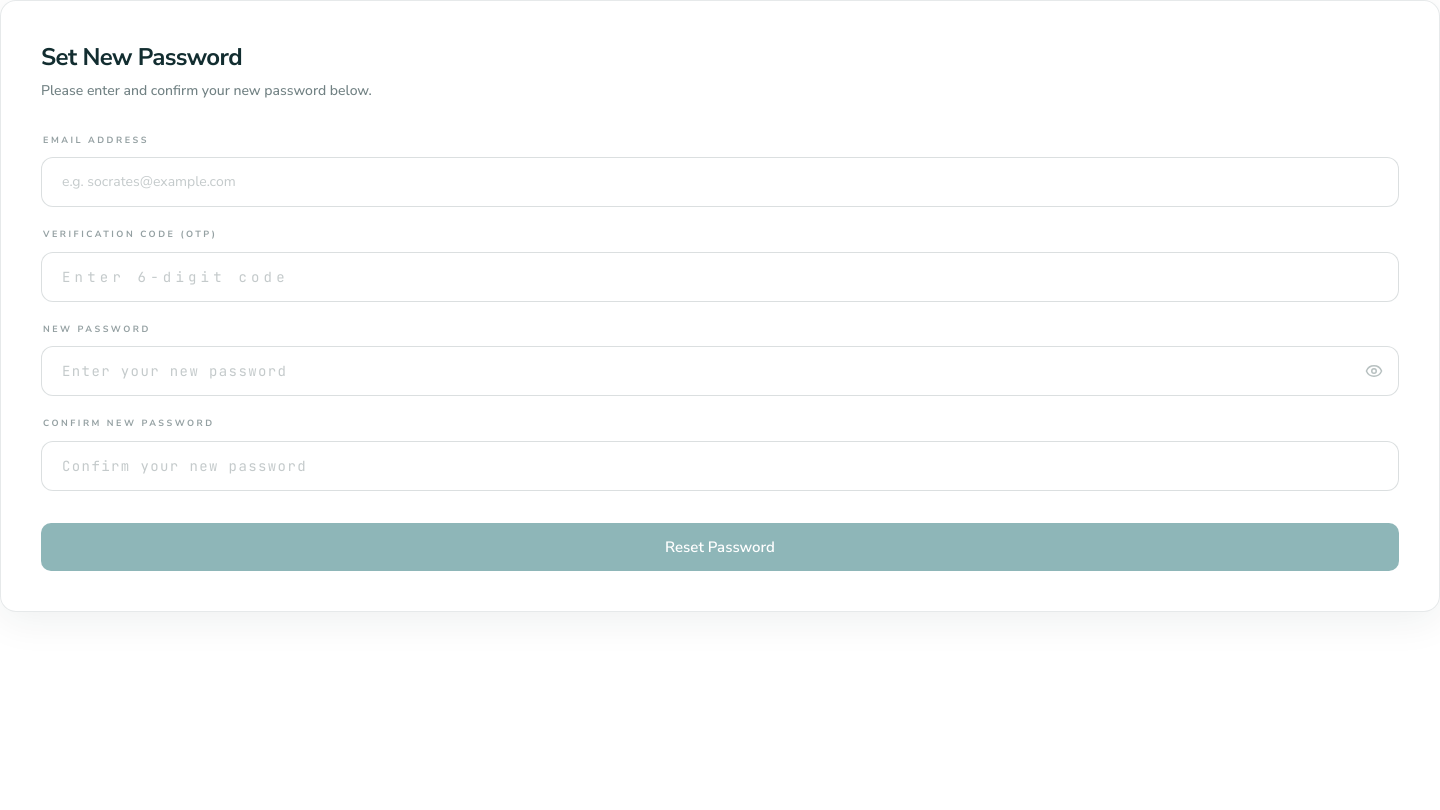
Test case: ResetPassword › surfaces the server error message on failure
Type "kid@example.com" into the field with placeholder "e.g. socrates@example.com".
click(720, 182); type("kid@example.com")  # box [41,157,1399,207]
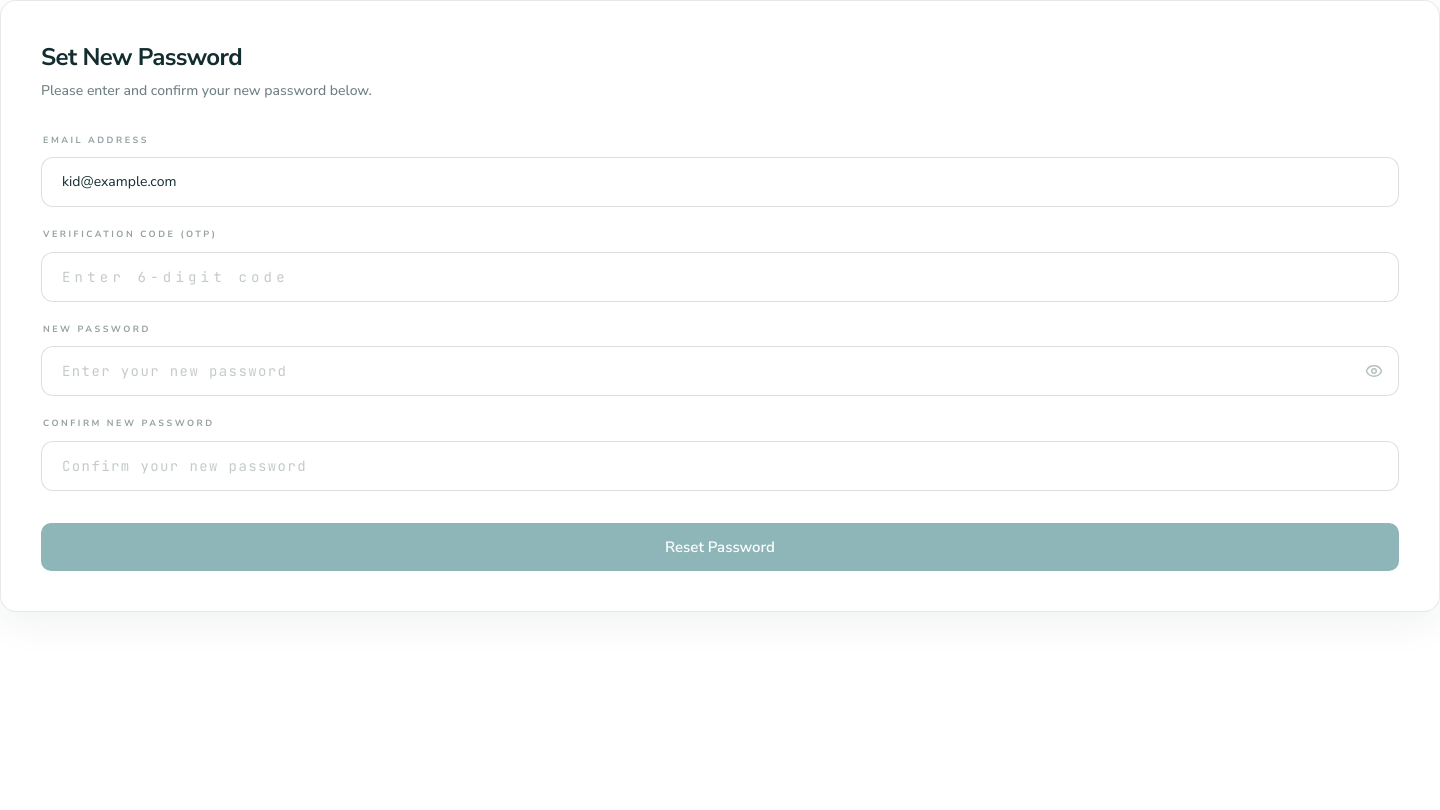
Type "123456" into the field with placeholder "Enter 6-digit code".
click(720, 277); type("123456")  # box [41,252,1399,302]
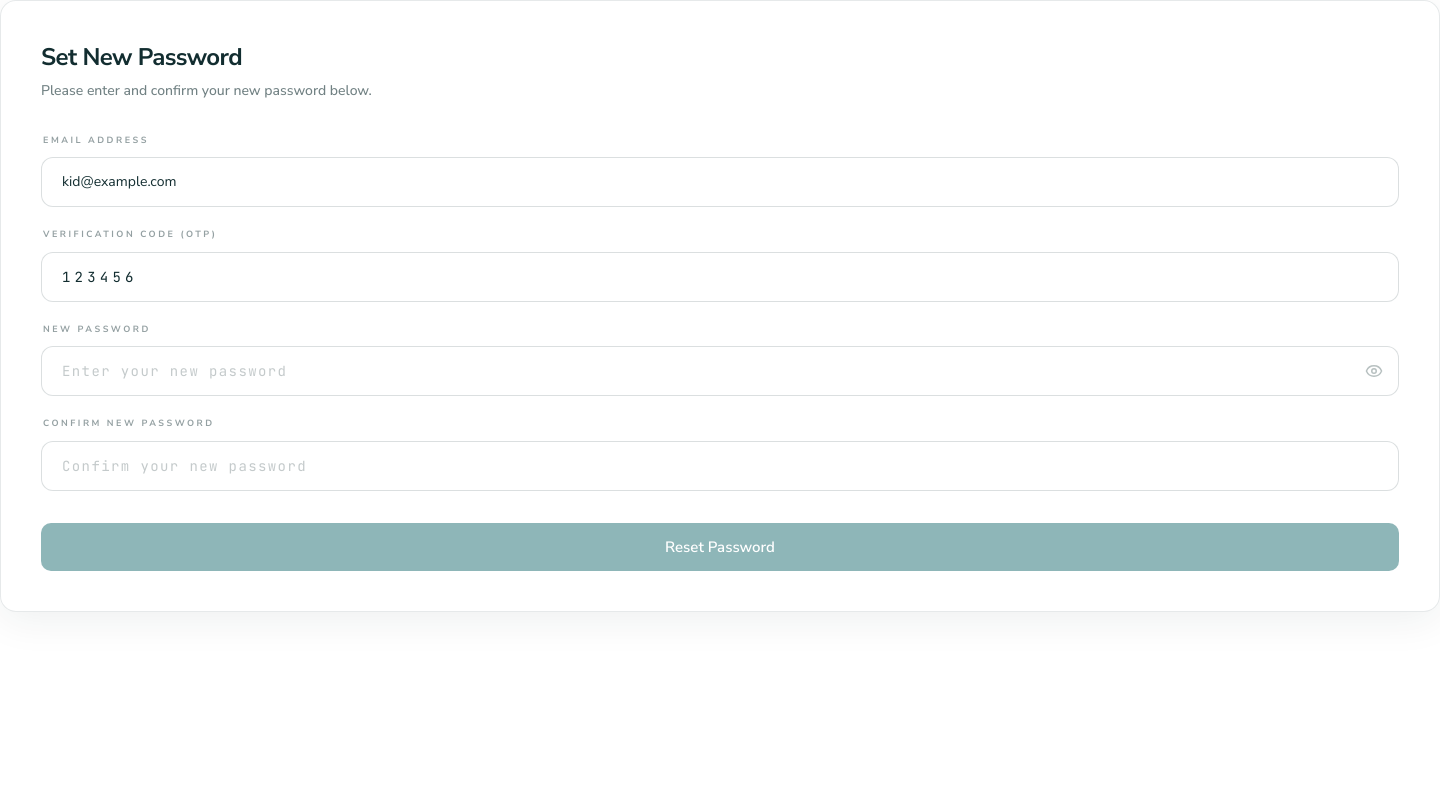
Type "newpassword1" into the password field with placeholder "Enter your new password".
click(720, 371); type("newpassword1")  # box [41,346,1399,396]
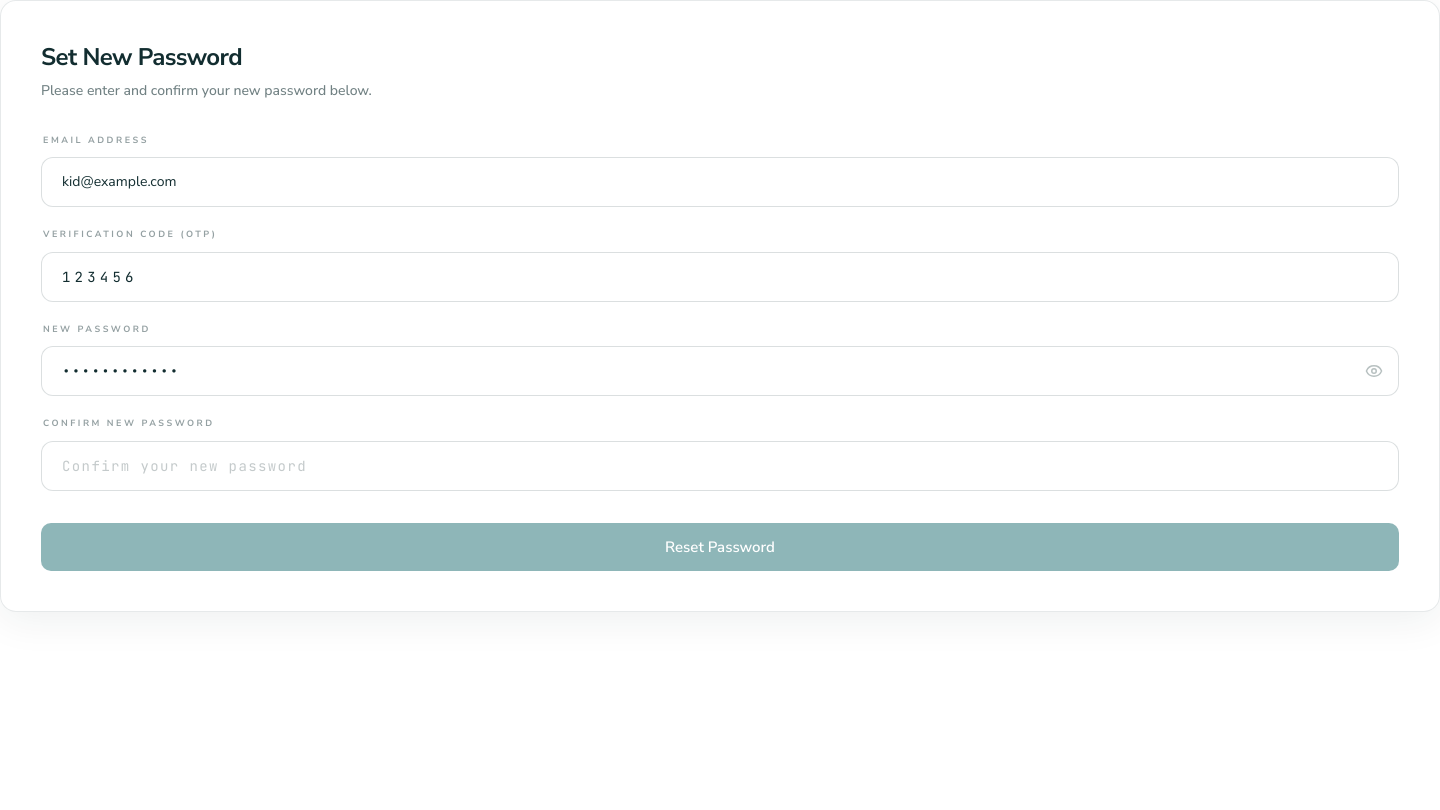
Type "newpassword1" into the password field with placeholder "Confirm your new password".
click(720, 466); type("newpassword1")  # box [41,441,1399,491]
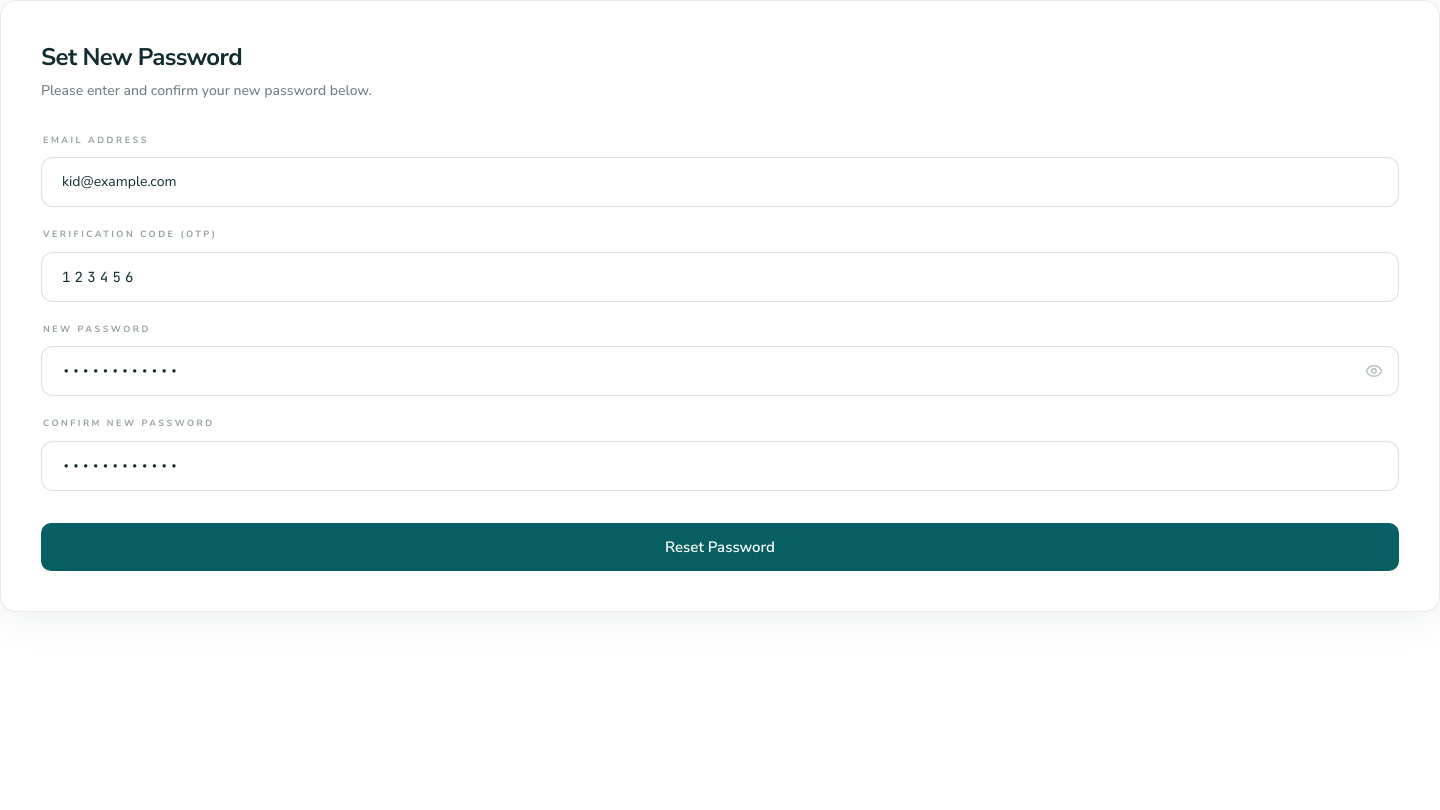
Click the button "Reset Password".
click(720, 547)  # box [41,523,1399,571]
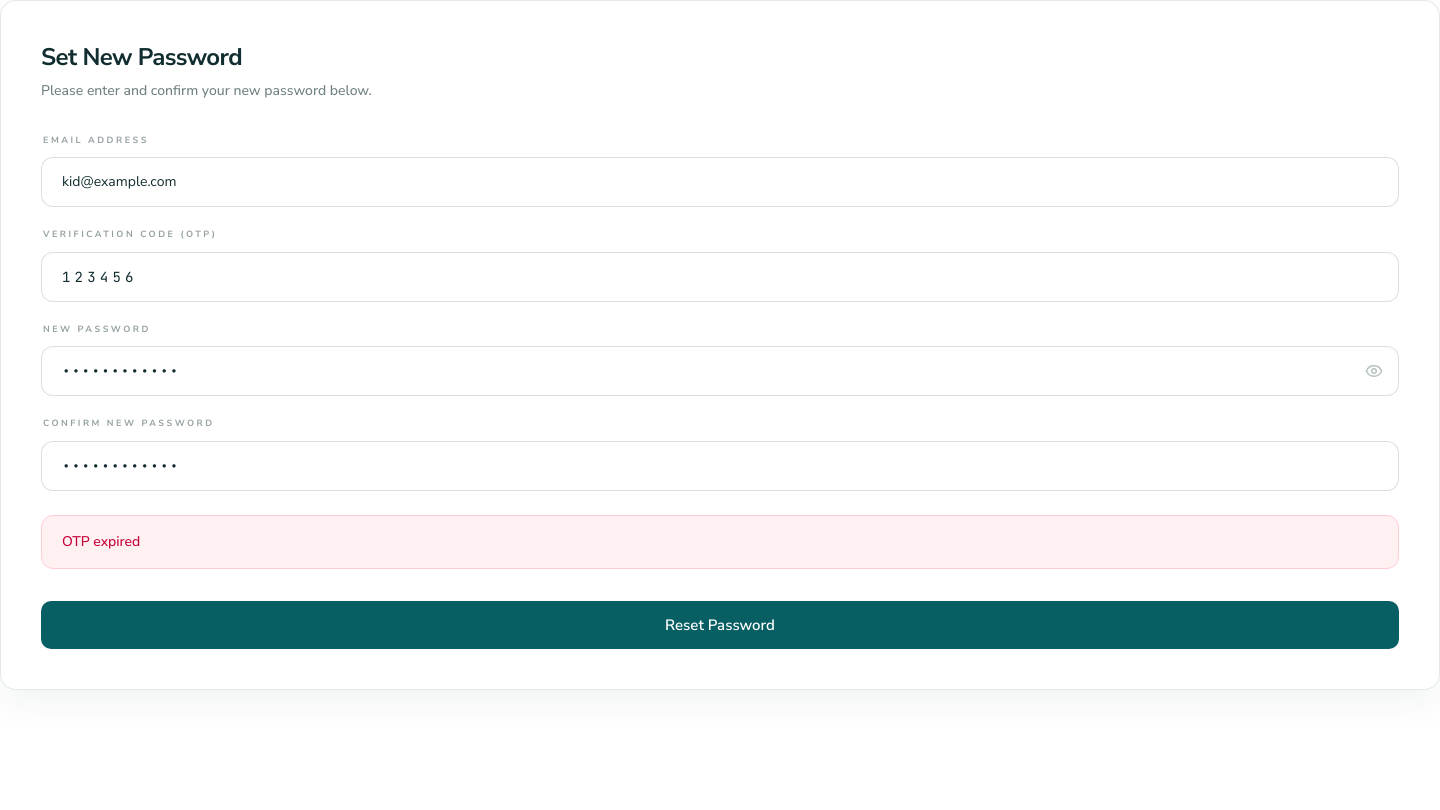
Now the text "OTP expired" is shown, box [41,515,1399,569]
